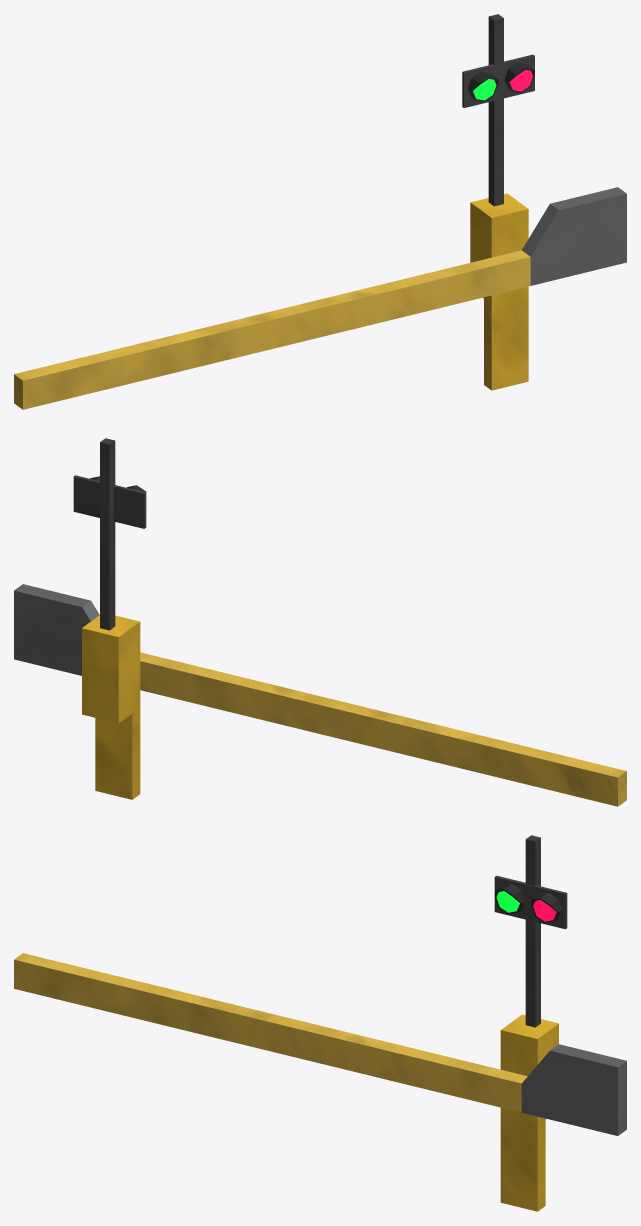
The model's file is SM_Boom.fbx.
3 renders of one model, top to bottom at view 1: azimuth 30°, elevation 25°; view 2: azimuth 150°, elevation 25°; view 3: azimuth 330°, elevation 25°, orthographic.
Parts seen in each view (by area): view 1: SM_Boom, SM_BoomFoundation; view 2: SM_Boom, SM_BoomFoundation; view 3: SM_Boom, SM_BoomFoundation.
Boxes of the visible parts, left/top/right/bottom form: SM_Boom: left=14, top=187, right=626, bottom=409; SM_BoomFoundation: left=462, top=14, right=534, bottom=390; SM_Boom: left=14, top=584, right=626, bottom=806; SM_BoomFoundation: left=73, top=438, right=146, bottom=799; SM_Boom: left=14, top=953, right=626, bottom=1135; SM_BoomFoundation: left=494, top=835, right=567, bottom=1211.
Bounding box in the file's own units: 4.93 × 2.8 × 0.4303.
